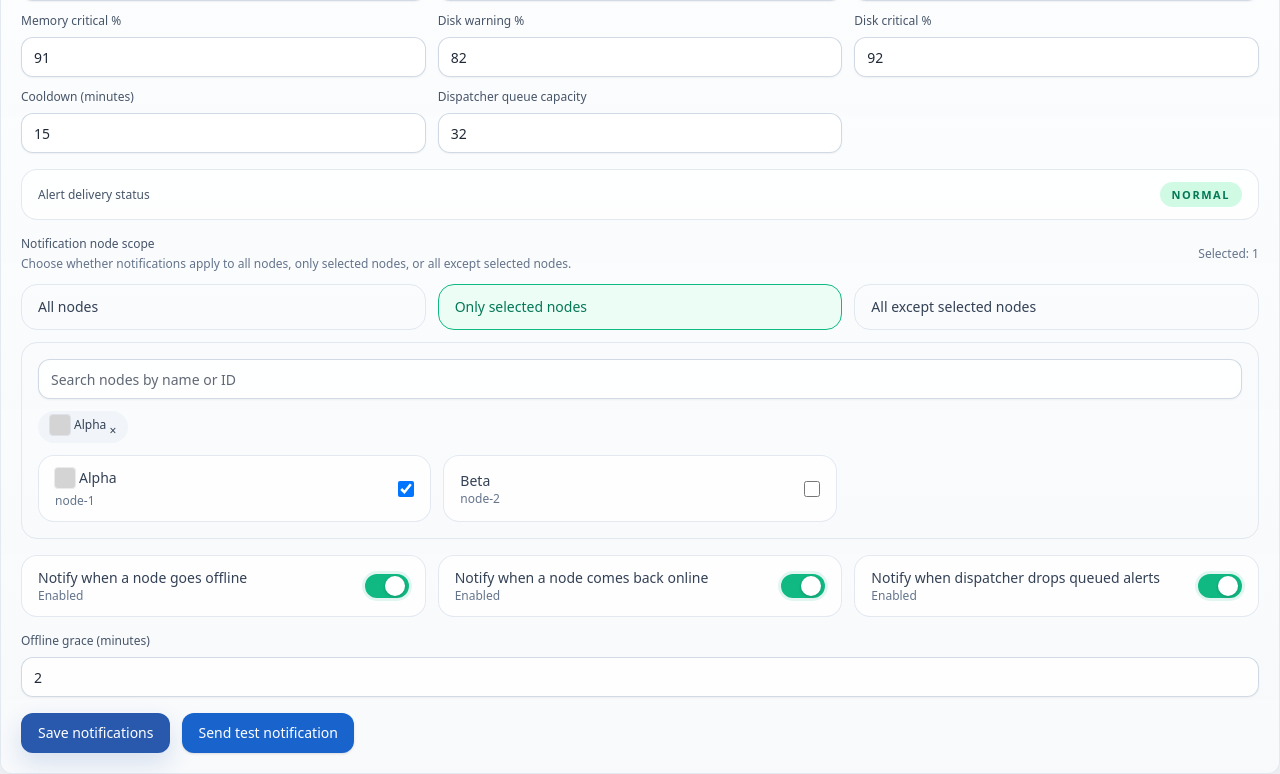
Test: notifications card › sends a test notification to the first telegram target
(page scrolled)
Click the button "Send test notification". click: (268, 733)
box: [182, 713, 354, 753]
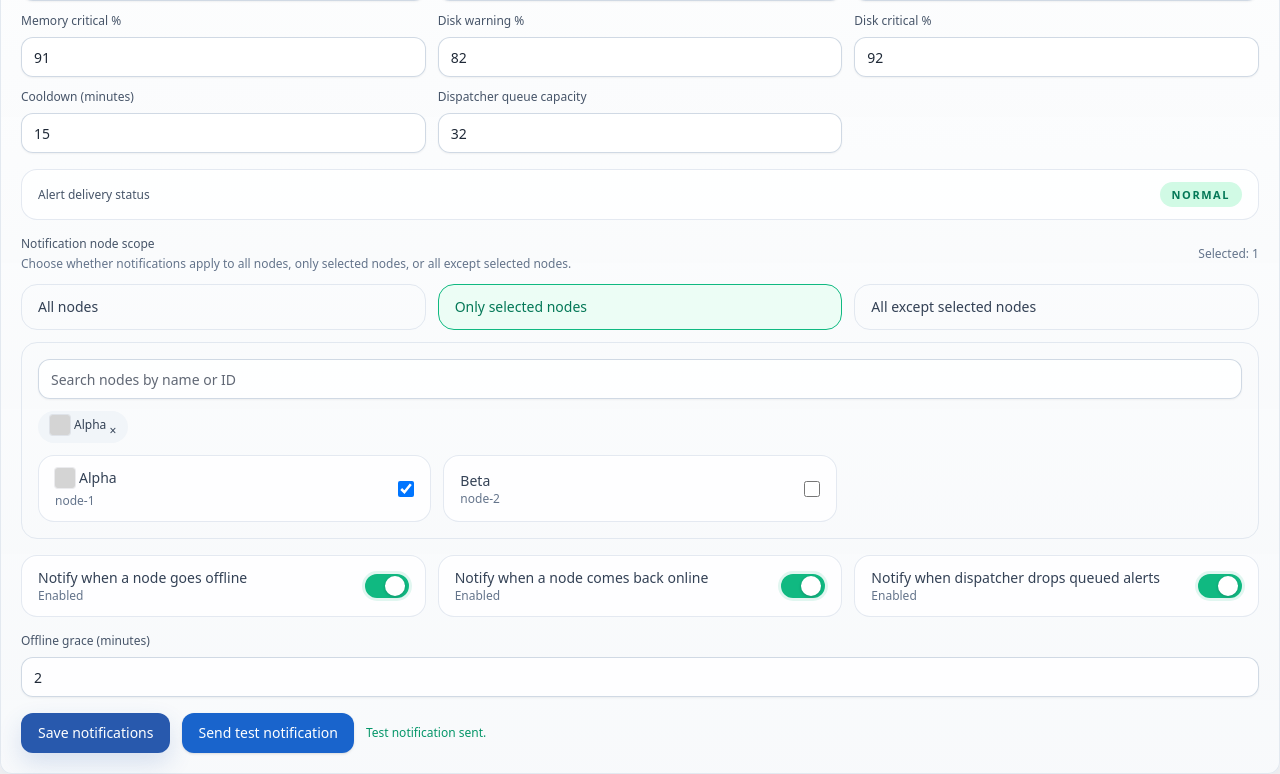
expect the text "Test notification sent." is shown: met, box [366, 725, 486, 741]
